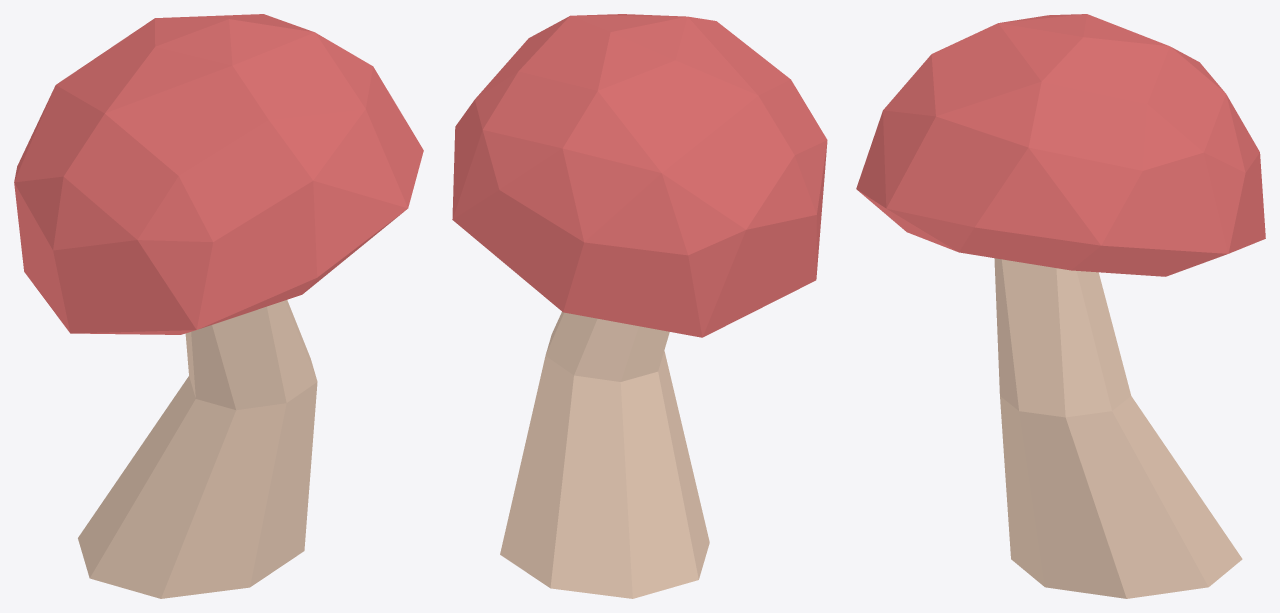
The model's file is mushroom-red.glb.
3 renders of one model, left to right at view 1: azimuth 30°, elevation 25°; view 2: azimuth 150°, elevation 25°; view 3: azimuth 270°, elevation 25°, orthographic. The views are drawn at different scales.
Visible parts, largest first — view 1: Node; view 2: Node; view 3: Node.
Part boxes in pixels (x1,y1,x2,y2): Node: (14, 14, 423, 598); Node: (452, 14, 827, 598); Node: (856, 14, 1265, 598).
Size of the model in its own units: 0.2677 by 0.3907 by 0.2693.
